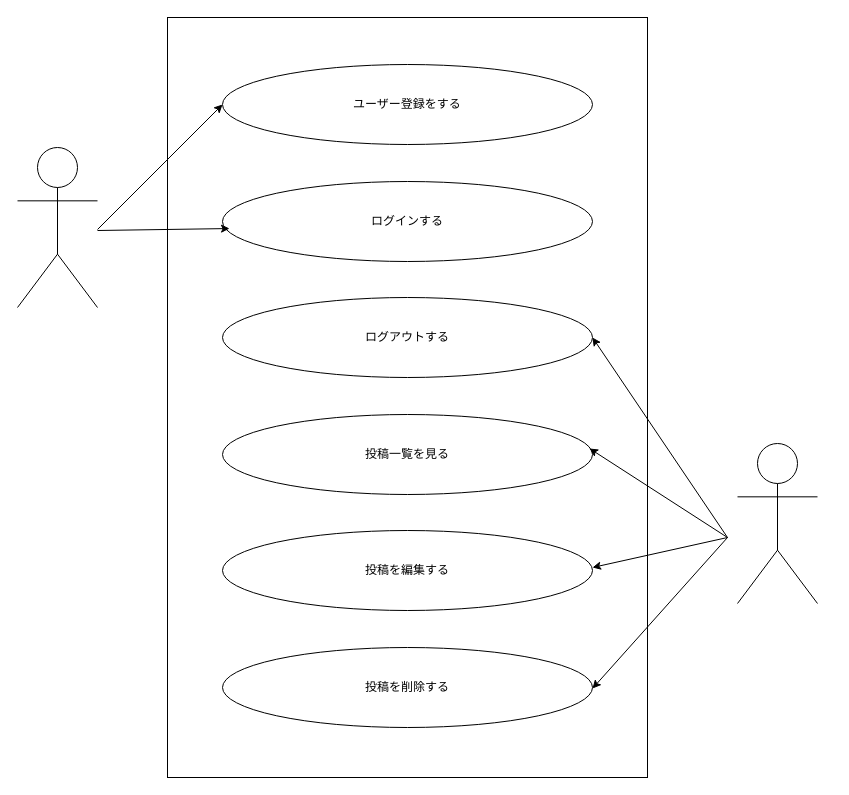
The diagram is 849 pixels wide and 795 high, and some of its shapes have lost their labels. The box of each missing label's shape, as (x1, y1, x2, y2) in pixels:
ログイン済み利用者: (736, 442, 818, 604)
投稿アプリ: (166, 16, 648, 778)
訪問者: (16, 146, 98, 308)
